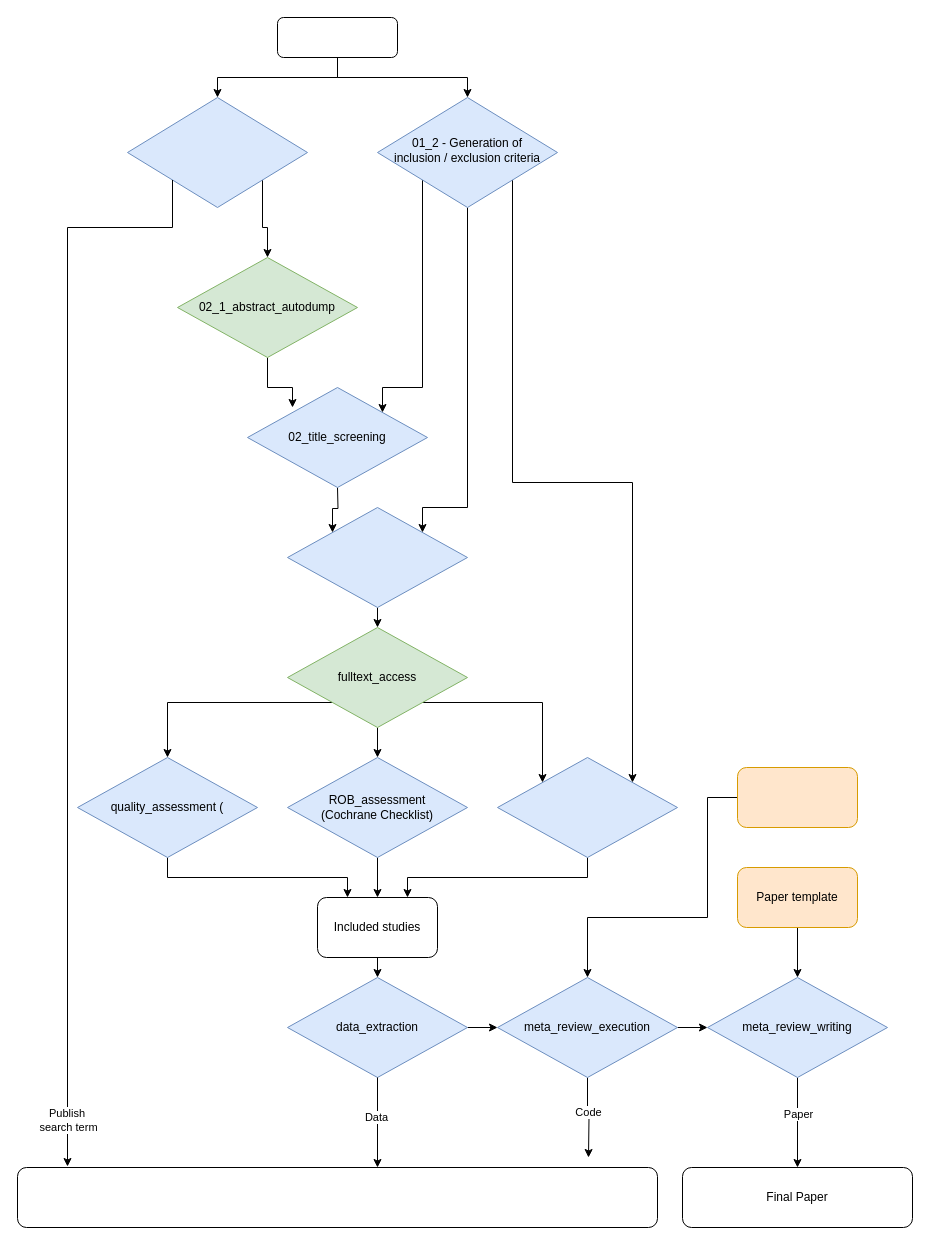
Image size: 930x1245. Some labels were removed from this diagram. Here are the shapes that lost their labels. From the top down, the centre of each, then its label:
point (337, 37): Submission of initial question
point (217, 152): 01_ident_search_terms
point (377, 557): 02_abstract_screening
point (587, 807): methods_assessment (inclusion/exclusion)
point (797, 797): Meta-review templates
point (337, 1197): Open Data and Open Code
